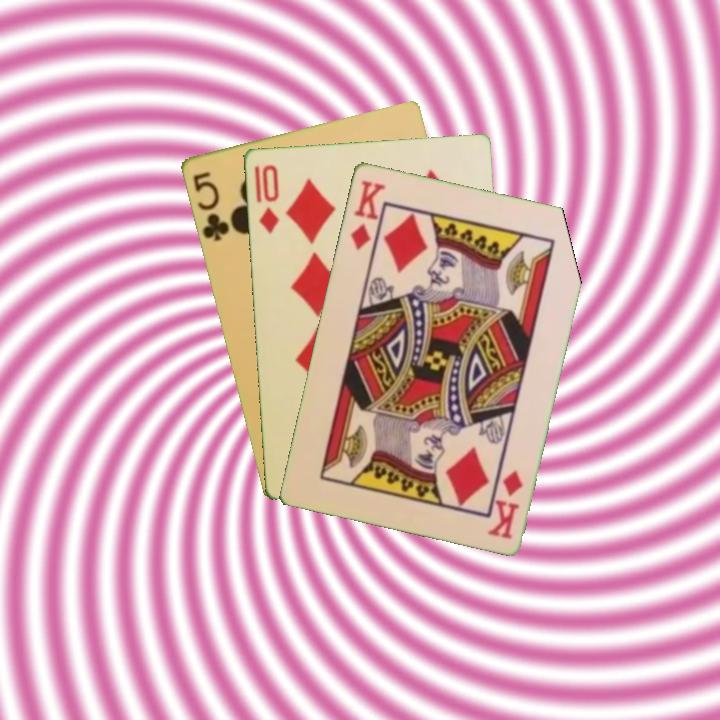10d: (255, 161, 282, 236)
5c: (188, 168, 232, 244)
Kd: (346, 176, 388, 253), (484, 466, 526, 541)
